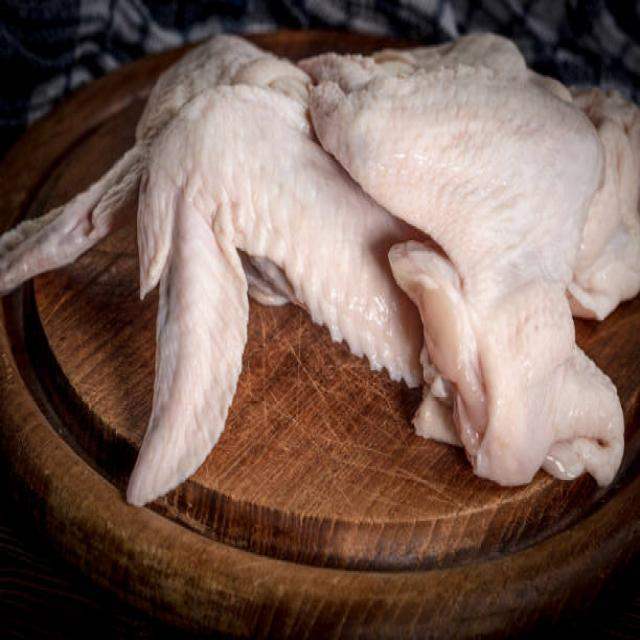Chicken: (121, 89, 431, 510)
